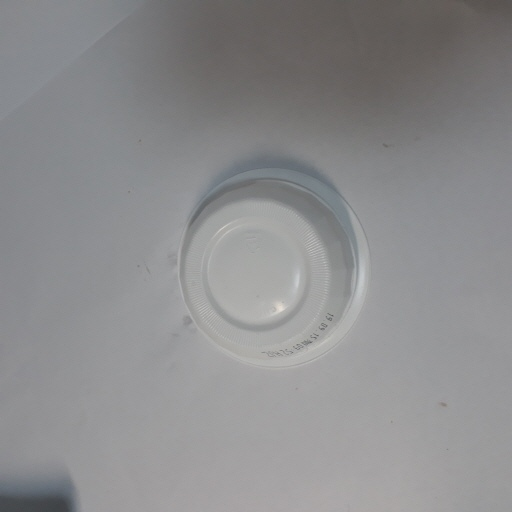Plastic_5: (174, 164, 379, 370)
